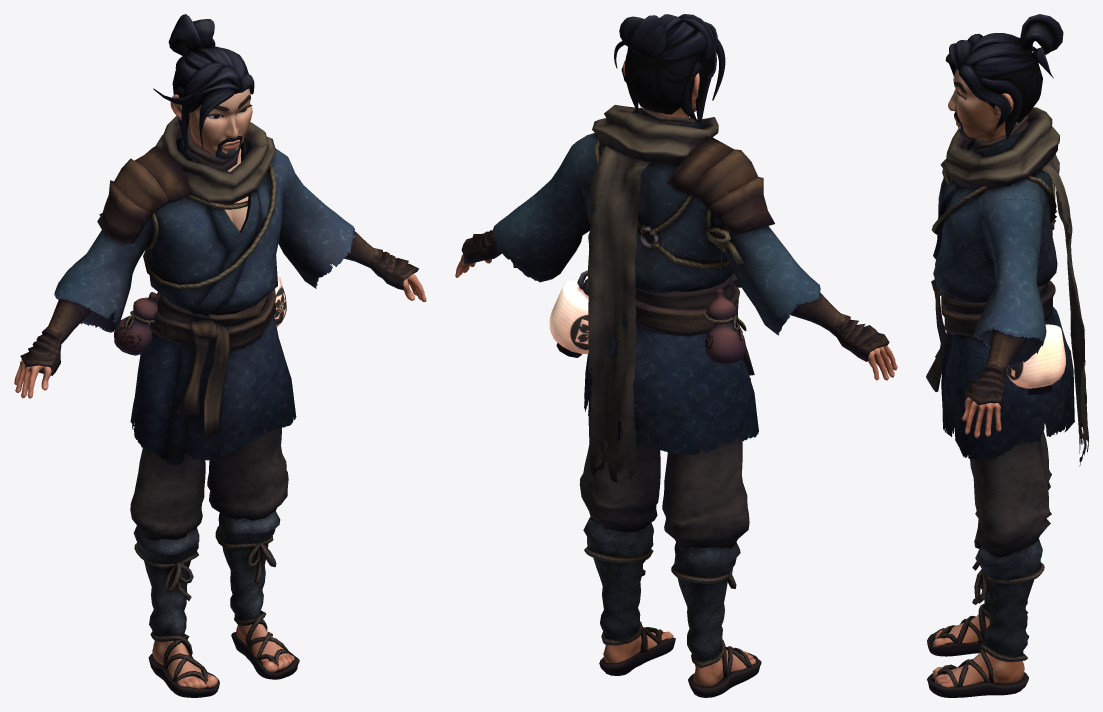
The model's file is 002_ShinATG_MC_v5.fbx.
The picture shows the model from 3 angles, left to right: view 1: azimuth 30°, elevation 25°; view 2: azimuth 150°, elevation 25°; view 3: azimuth 270°, elevation 25°; orthographic projection. The views are drawn at different scales.
Visible parts, largest first — view 1: Shirt, Shoes, Pants, Belt, Shoulder Guard, Body, Hair, Scarf, Handwraps, Suitou; view 2: Shirt, Scarf, Shoes, Pants, Hair, Shoulder Guard, Belt, Handwraps, Body, Chochin, Suitou; view 3: Shirt, Shoes, Scarf, Hair, Pants, Body, Belt, Chochin, Handwraps, Shoulder Guard.
Part boxes in pixels (x1,y1,x2,y2): Shirt: (54,136,354,465); Shoes: (133,511,299,697); Pants: (130,422,288,540); Belt: (149,289,275,436); Shoulder Guard: (97,146,276,289); Body: (14,88,426,688); Hair: (153,14,254,151); Scarf: (155,115,276,204); Handwraps: (20,231,418,375); Suitou: (114,292,157,355); Shirt: (492,109,820,454); Scarf: (587,105,718,483); Shoes: (583,517,761,697); Pants: (579,333,749,548); Hair: (614,14,725,124); Shoulder Guard: (594,136,774,269); Belt: (622,273,754,379); Handwraps: (461,230,889,361); Body: (455,60,897,686); Chochin: (549,270,588,357); Suitou: (702,288,746,365); Shirt: (933,120,1074,460); Shoes: (927,511,1044,697); Scarf: (940,107,1088,466); Hair: (945,14,1063,139); Pants: (970,431,1051,557); Body: (932,69,1024,687); Belt: (926,279,1055,391); Chochin: (1006,324,1065,394); Handwraps: (965,327,1026,410); Shoulder Guard: (931,169,1056,234).
Bounding box in the file's own units: 130 × 194 × 44.05.
